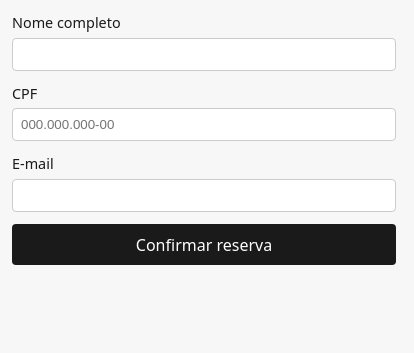
PassengerForm › mostra erros de validação ao submeter o formulário vazio
Click the button "Confirmar reserva" at (204, 245), box x1=12 y1=224 x2=396 y2=265
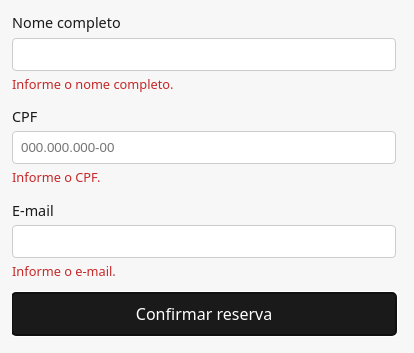
Expected: the text "Informe o nome completo." is shown, x1=12 y1=75 x2=174 y2=93
Expected: the text "Informe o CPF." is shown, x1=12 y1=168 x2=100 y2=186
Expected: the text "Informe o e-mail." is shown, x1=12 y1=262 x2=116 y2=280
